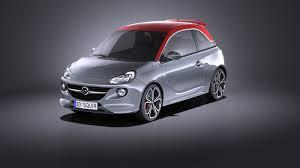opel: (80, 86, 90, 96)
